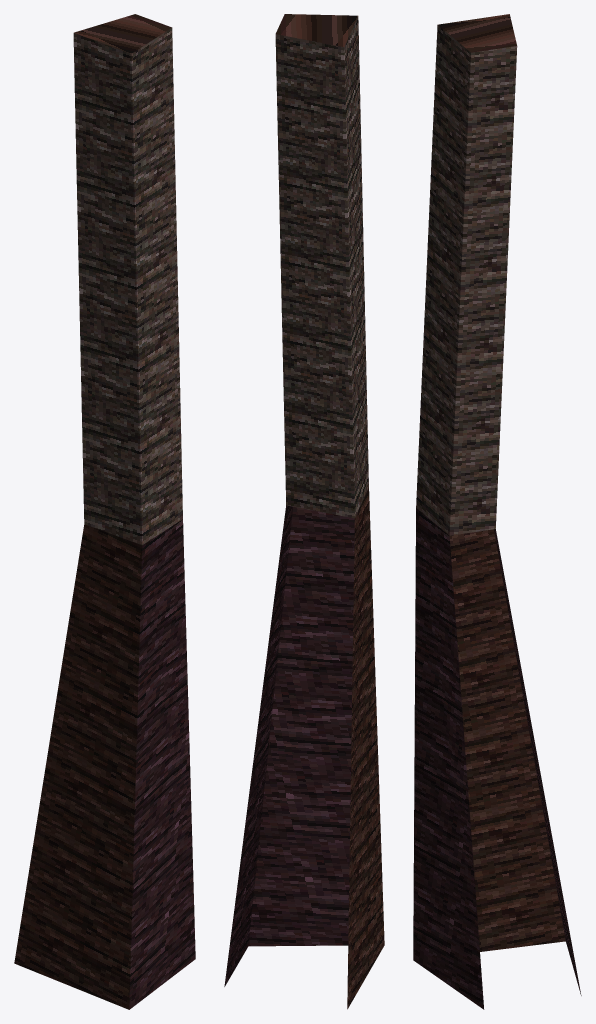
The model's file is primary_092.glb.
The picture shows the model from 3 angles, left to right: view 1: azimuth 30°, elevation 25°; view 2: azimuth 150°, elevation 25°; view 3: azimuth 270°, elevation 25°; orthographic projection.
Parts seen in each view (by area): view 1: Object; view 2: Object; view 3: Object.
Part boxes in pixels (x1=…): Object: x1=14, y1=14, x2=195, y2=1009; Object: x1=224, y1=14, x2=384, y2=1009; Object: x1=413, y1=14, x2=581, y2=1009.
Bounding box in the file's own units: 1.74 × 11.15 × 1.81.
4 materials, 4 textured.
